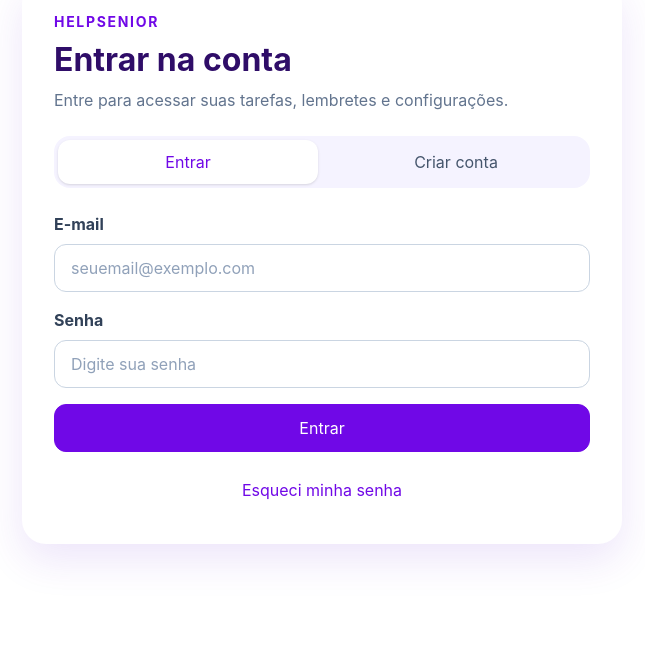
Test case: AuthForm › valida e-mail e senha antes do login
Submit the form "Entrar", box [54,212,590,452]
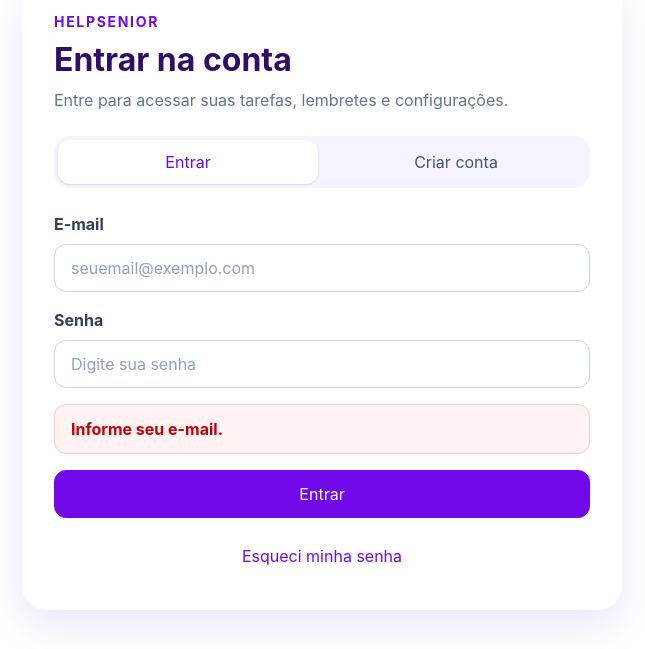
expect the text "Informe seu e-mail." is shown: met, box [54,404,590,454]
Type "maria@example.com" into the field labelled "E-mail" at [322, 268], box [54,244,590,292]
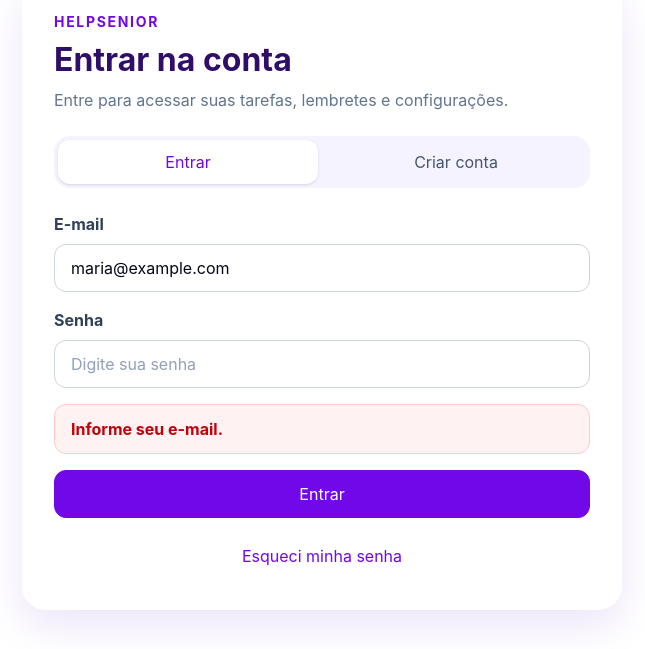
Submit the form "Entrar", box [54,212,590,518]
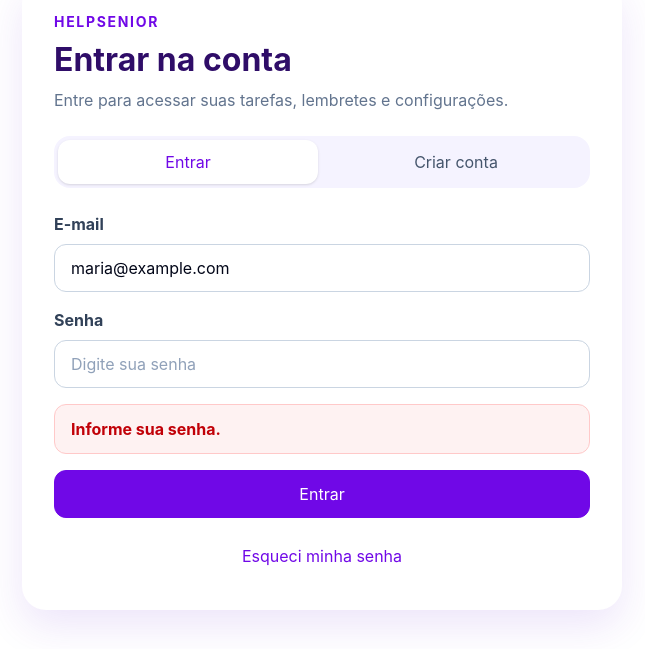
expect the text "Informe sua senha." is shown: met, box [54,404,590,454]
